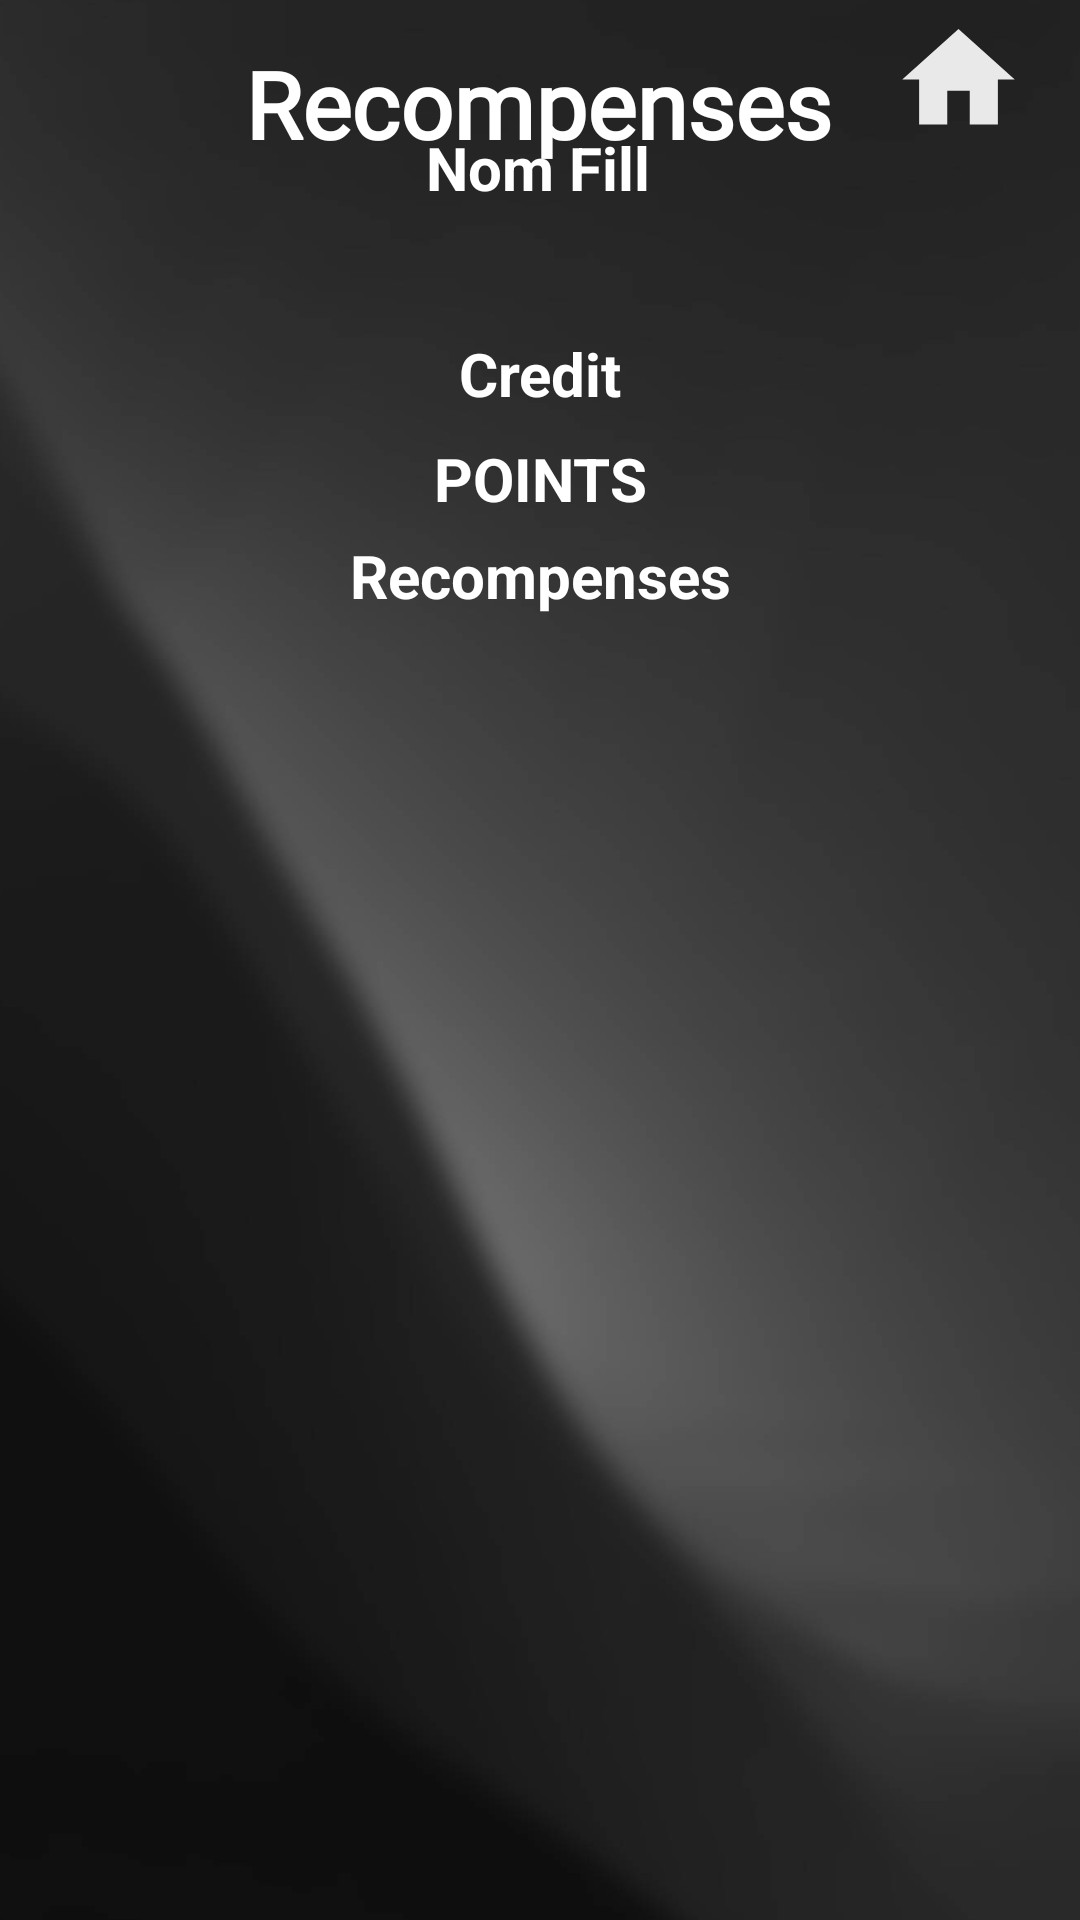

Icon bounding boxes for this 1080×1920 phone screenshot, format (x1, y1, x2, y2):
home: (902, 29, 1015, 125)
